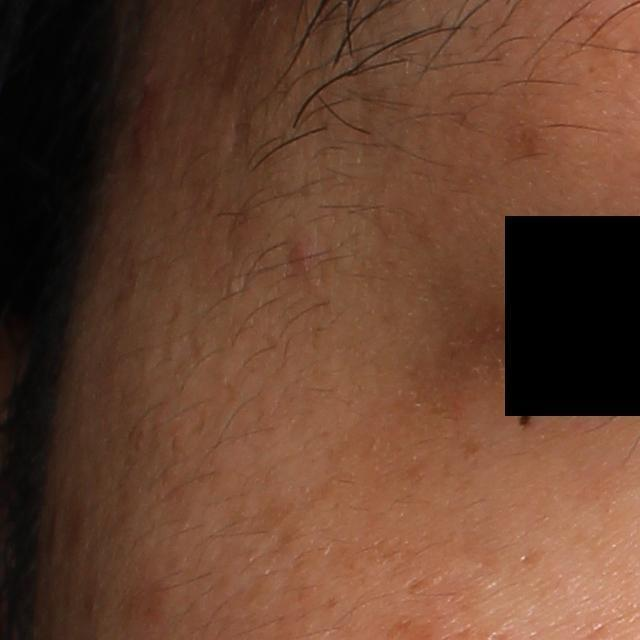nevus: (516, 409, 538, 432)
papule: (283, 238, 321, 277)
